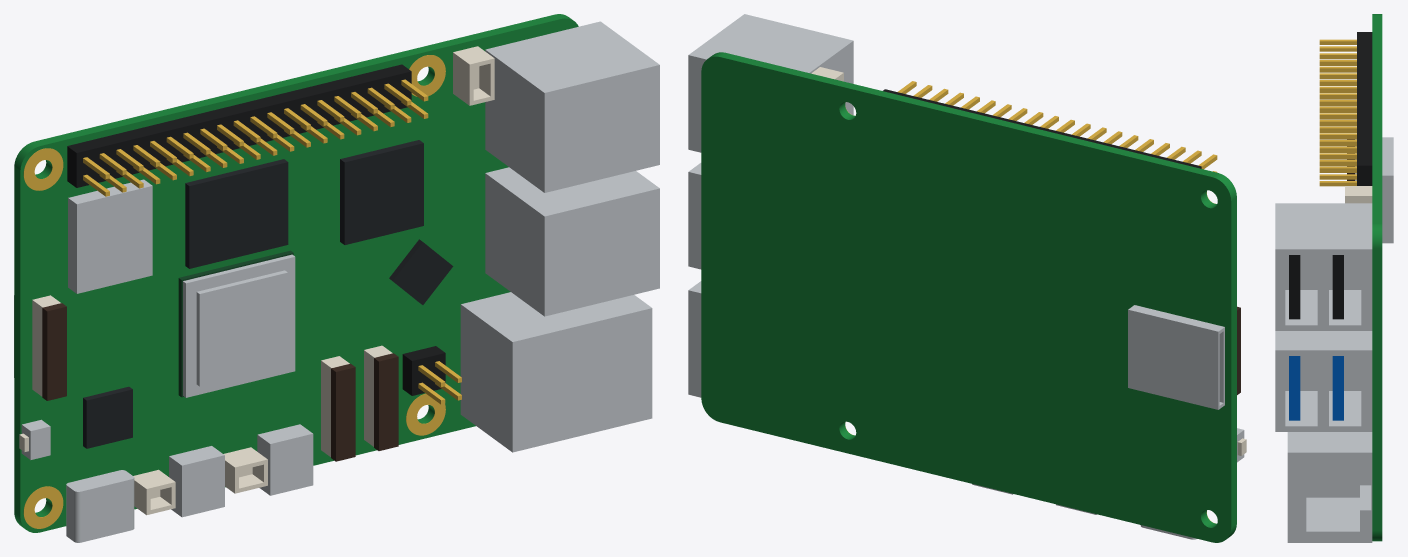
The model's file is raspberry_pi_5.obj.
3 views of the same model, side by side, from view 1: azimuth 30°, elevation 25°; view 2: azimuth 150°, elevation 25°; view 3: azimuth 270°, elevation 25° (orthographic). The views are drawn at different scales.
Parts seen in each view (by area): view 1: PCB, Ethernet_RJ45, USB2_Shell, USB3_Shell, BCM2712_Heatspreader, GPIO_Shroud, SDRAM_LPDDR4X, WiFi_BT_Shield, RP1_Southbridge, USBC_Shell, MicroHDMI_0, MicroHDMI_1 (+18 smaller); view 2: PCB, MicroSD_Slot, USB2_Shell, Ethernet_RJ45, USB3_Shell, GPIO_Shroud; view 3: USB2_Shell, Ethernet_RJ45, USB3_Shell, PCB, GPIO_Shroud, MicroSD_Slot, USB3_Insert_Bot, USB3_Insert_Top, USB2_Insert_Bot, USB2_Insert_Top, Fan_JST, GPIO_Pin (4) (+21 smaller).
Part boxes in pixels (bbox=[...]): PCB: bbox=[14, 14, 578, 532]; Ethernet_RJ45: bbox=[460, 292, 652, 452]; USB2_Shell: bbox=[485, 21, 659, 192]; USB3_Shell: bbox=[485, 167, 659, 316]; BCM2712_Heatspreader: bbox=[183, 254, 295, 397]; GPIO_Shroud: bbox=[67, 64, 411, 187]; SDRAM_LPDDR4X: bbox=[185, 159, 288, 268]; WiFi_BT_Shield: bbox=[68, 179, 152, 293]; RP1_Southbridge: bbox=[340, 140, 423, 244]; USBC_Shell: bbox=[66, 470, 134, 542]; MicroHDMI_0: bbox=[169, 446, 224, 517]; MicroHDMI_1: bbox=[257, 424, 313, 495]; PCB: bbox=[701, 52, 1236, 542]; MicroSD_Slot: bbox=[1128, 305, 1224, 409]; USB2_Shell: bbox=[688, 14, 853, 152]; Ethernet_RJ45: bbox=[688, 281, 701, 397]; USB3_Shell: bbox=[688, 163, 701, 269]; GPIO_Shroud: bbox=[883, 89, 1201, 168]; USB2_Shell: bbox=[1275, 203, 1372, 330]; Ethernet_RJ45: bbox=[1287, 432, 1372, 542]; USB3_Shell: bbox=[1275, 331, 1372, 431]; PCB: bbox=[1372, 14, 1382, 541]; GPIO_Shroud: bbox=[1357, 32, 1372, 185]; MicroSD_Slot: bbox=[1382, 137, 1393, 243]; USB3_Insert_Bot: bbox=[1332, 356, 1343, 420]; USB3_Insert_Top: bbox=[1289, 356, 1300, 420]; USB2_Insert_Bot: bbox=[1332, 255, 1343, 319]; USB2_Insert_Top: bbox=[1289, 255, 1300, 319]; Fan_JST: bbox=[1345, 186, 1372, 203]; GPIO_Pin (4): bbox=[1319, 46, 1356, 51].
Bounding box in the file's own units: 0.0884 × 0.0572 × 0.019.
